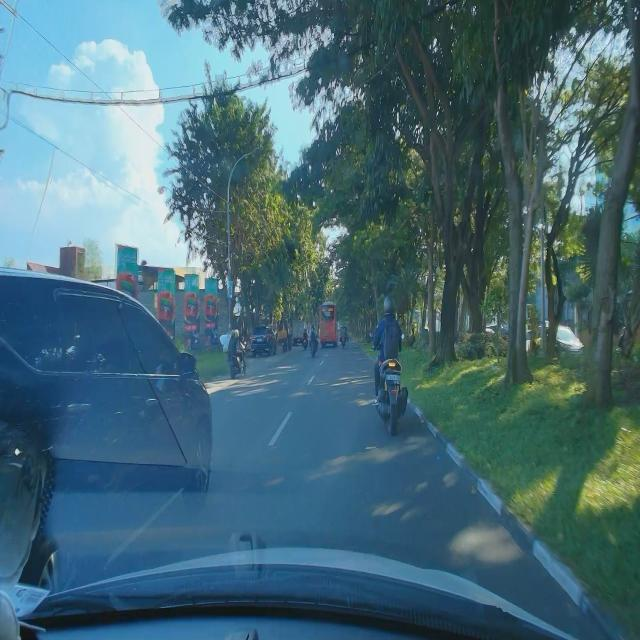bus: (319, 300, 338, 346)
car: (251, 324, 278, 356)
